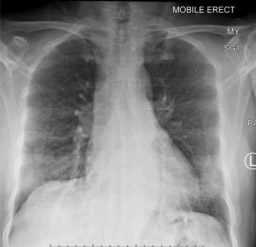Mildw: (137, 31, 231, 231), (13, 36, 103, 216)
